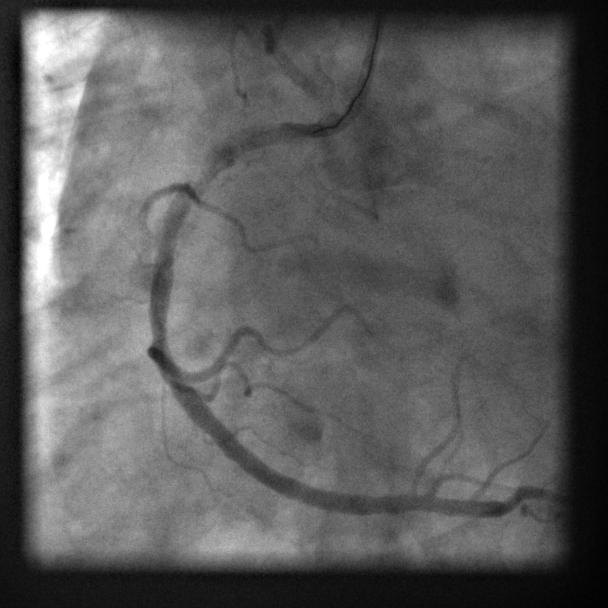Stenosis: (180, 158, 216, 212)
